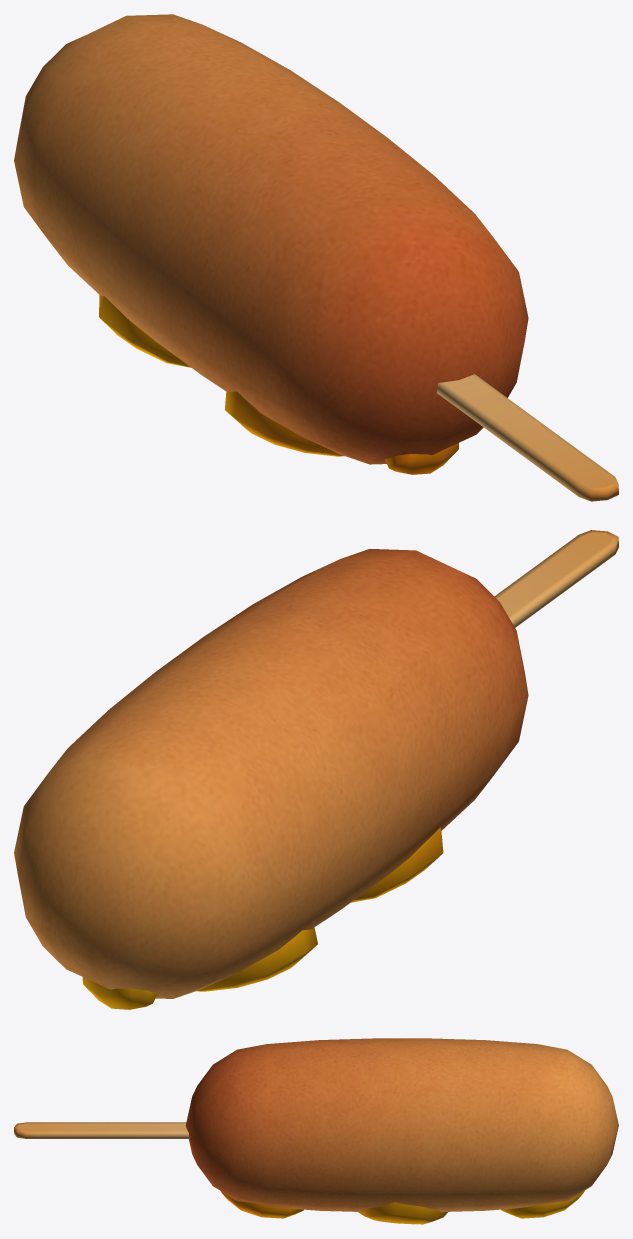
File: corn-dog.glb
3 renders of one model, top to bottom at view 1: azimuth 30°, elevation 25°; view 2: azimuth 150°, elevation 25°; view 3: azimuth 270°, elevation 25°, orthographic. The views are drawn at different scales.
Bounding box in the file's own units: 0.2878 × 0.3079 × 1.
1 material, 1 textured.
